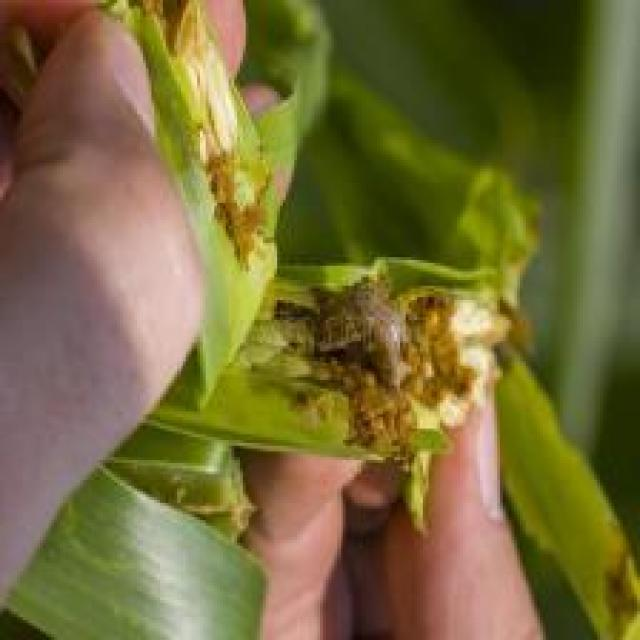Plaga: (288, 257, 465, 394)
